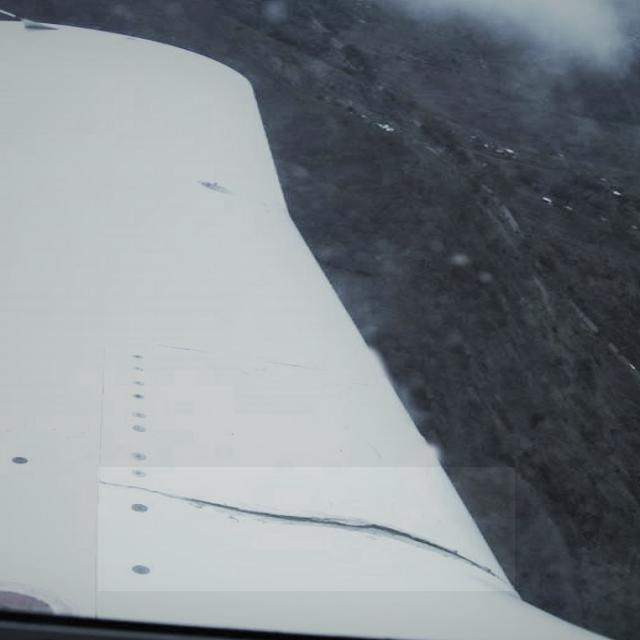crack: (99, 468, 516, 592)
